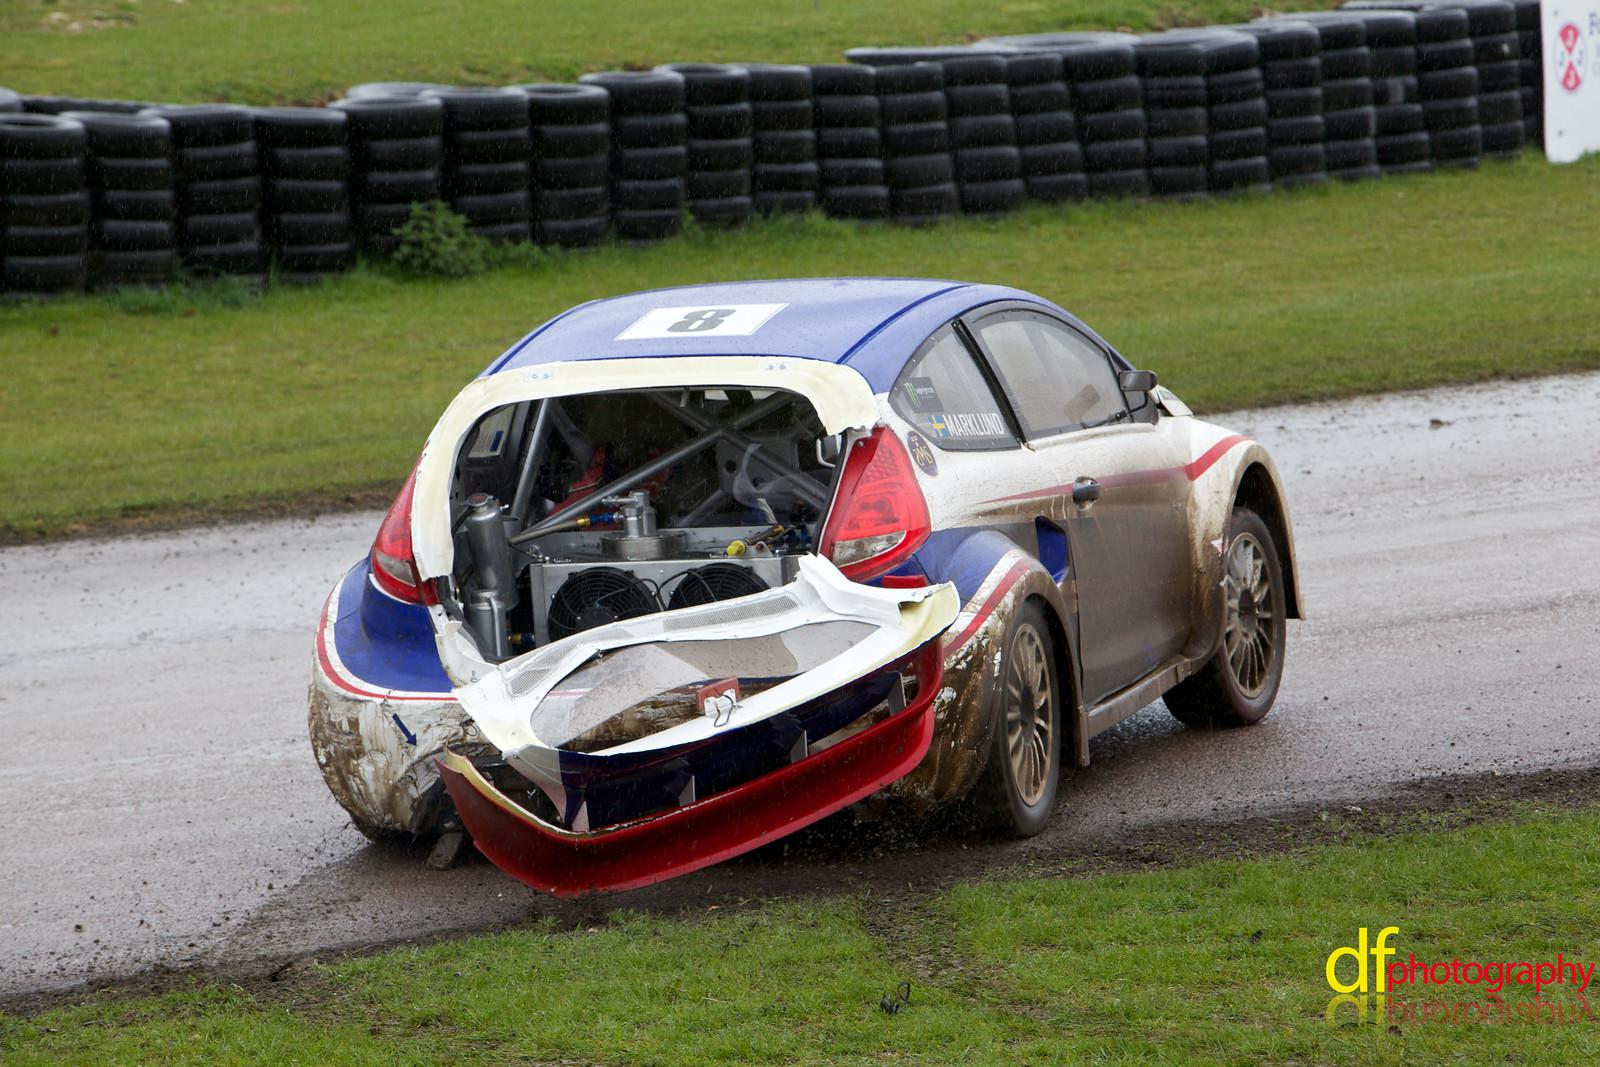Rear-windscreen-Damage: (429, 330, 849, 563)
rear-bumper-dent: (368, 647, 1004, 837)
